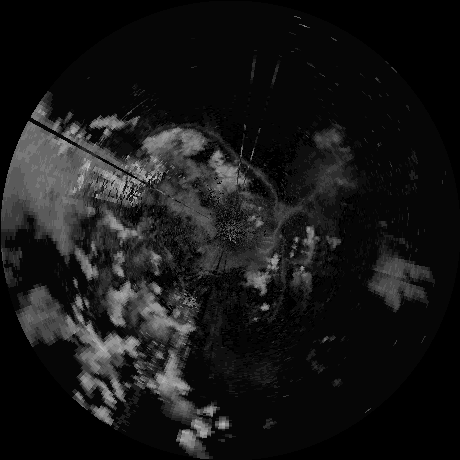frontgust: (251, 169, 282, 237), (207, 130, 249, 167), (271, 244, 288, 321)
